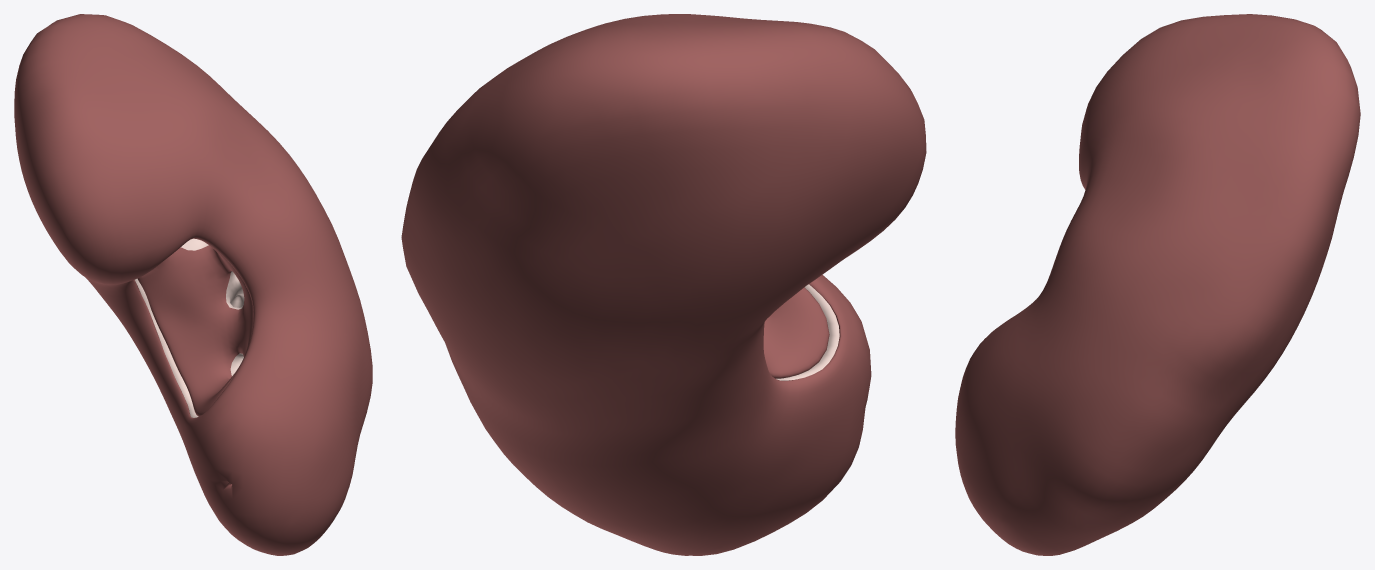
The model's file is kidney-male-left.glb.
3 renders of one model, left to right at view 1: azimuth 30°, elevation 25°; view 2: azimuth 150°, elevation 25°; view 3: azimuth 270°, elevation 25°, orthographic. The views are drawn at different scales.
Parts seen in each view (by area): view 1: VH_M_kidney_capsule_L, VH_M_hilum_of_kidney_L, VH_M_renal_column_L, VH_M_outer_cortex_of_kidney_L; view 2: VH_M_kidney_capsule_L, VH_M_hilum_of_kidney_L, VH_M_outer_cortex_of_kidney_L; view 3: VH_M_kidney_capsule_L.
Part boxes in pixels (<box>): VH_M_kidney_capsule_L: <box>14,14,372,555</box>; VH_M_hilum_of_kidney_L: <box>137,238,253,416</box>; VH_M_renal_column_L: <box>181,238,244,375</box>; VH_M_outer_cortex_of_kidney_L: <box>135,278,198,417</box>; VH_M_kidney_capsule_L: <box>401,14,926,555</box>; VH_M_hilum_of_kidney_L: <box>763,287,829,378</box>; VH_M_outer_cortex_of_kidney_L: <box>776,284,839,380</box>; VH_M_kidney_capsule_L: <box>955,14,1360,555</box>.
Size of the model in its own units: 0.0757 by 0.1065 by 0.0824.
